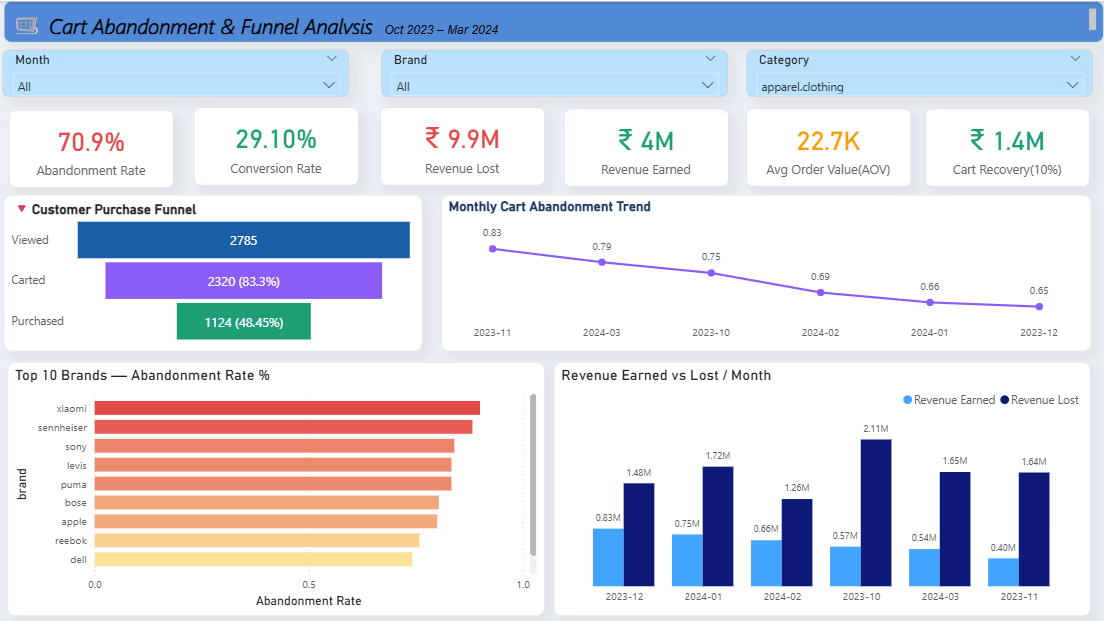

This screenshot's page, from the dashboard's own definition file:
{"tool":"powerbi","page":{"name":"DS","canvas":[1280,720],"ordinal":1},"visuals":[{"type":"textbox","box":[10.1,0,1269.6,47.6],"z":0},{"type":"card","fields":{"Values":["ecom_event.Abandonment Rate"]},"box":[15.2,124.9,190,90],"z":1000},{"type":"card","fields":{"Values":["ecom_event.Conversion Rate"]},"box":[229.5,122,190,90],"z":2000},{"type":"card","fields":{"Values":["ecom_event.Revenue Lost"]},"box":[443.8,122,190,90],"z":3000},{"type":"card","fields":{"Values":["ecom_event.Revenue Earned"]},"box":[656.6,123.4,190,90],"z":4000},{"type":"card","fields":{"Values":["ecom_event.Avg Order Value(AOV)"]},"box":[866.6,123.4,190,90],"z":5000},{"type":"card","fields":{"Values":["ecom_event.Cart Recovery(10%)"]},"box":[1073.8,123.4,190,90],"z":6000},{"type":"slicer","fields":{"Values":["ecom_event.event_month"]},"box":[8.6,55.7,400,54.3],"z":7000},{"type":"slicer","fields":{"Values":["ecom_event.brand"]},"box":[445.7,55.7,400,54.3],"z":8000},{"type":"slicer","fields":{"Values":["ecom_event.category_code"]},"box":[867.1,55.7,400,54.3],"z":9000},{"type":"funnel","title":"🔻Customer Purchase Funnel","fields":{"Category":["FunnelStages.Stage"],"Y":["Sum(FunnelStages.Users)"]},"box":[10.7,224.3,482.9,181],"z":10000},{"type":"lineChart","title":"Monthly Cart Abandonment Trend","fields":{"Category":["ecom_event.event_month"],"Y":["ecom_event.Abandonment Rate"]},"box":[515,224.3,750,181],"z":11000},{"type":"barChart","title":"Top 10 Brands — Abandonment Rate %","fields":{"Category":["ecom_event.brand"],"Y":["ecom_event.Abandonment Rate"]},"box":[15,417.7,620,292.5],"z":12000},{"type":"clusteredColumnChart","title":"Revenue Earned vs Lost / Month","fields":{"Category":["ecom_event.event_month"],"Y":["ecom_event.Revenue Earned","ecom_event.Revenue Lost"]},"box":[645,417.7,620,292.5],"z":13000}]}

Visuals, with their boxes in screenshot pixels (x1, y1, x2, y2), scaled from the page's 1280x720 canvas onto the 1104x621 screenshot:
textbox: 9, 0, 1103, 41
card - ecom_event.Abandonment Rate: 13, 108, 177, 185
card - ecom_event.Conversion Rate: 198, 105, 362, 183
card - ecom_event.Revenue Lost: 383, 105, 547, 183
card - ecom_event.Revenue Earned: 566, 106, 730, 184
card - ecom_event.Avg Order Value(AOV): 747, 106, 911, 184
card - ecom_event.Cart Recovery(10%): 926, 106, 1090, 184
slicer - ecom_event.event_month: 7, 48, 352, 95
slicer - ecom_event.brand: 384, 48, 729, 95
slicer - ecom_event.category_code: 748, 48, 1093, 95
"🔻Customer Purchase Funnel" funnel: 9, 193, 426, 350
"Monthly Cart Abandonment Trend" lineChart: 444, 193, 1091, 350
"Top 10 Brands — Abandonment Rate %" barChart: 13, 360, 548, 613
"Revenue Earned vs Lost / Month" clusteredColumnChart: 556, 360, 1091, 613
